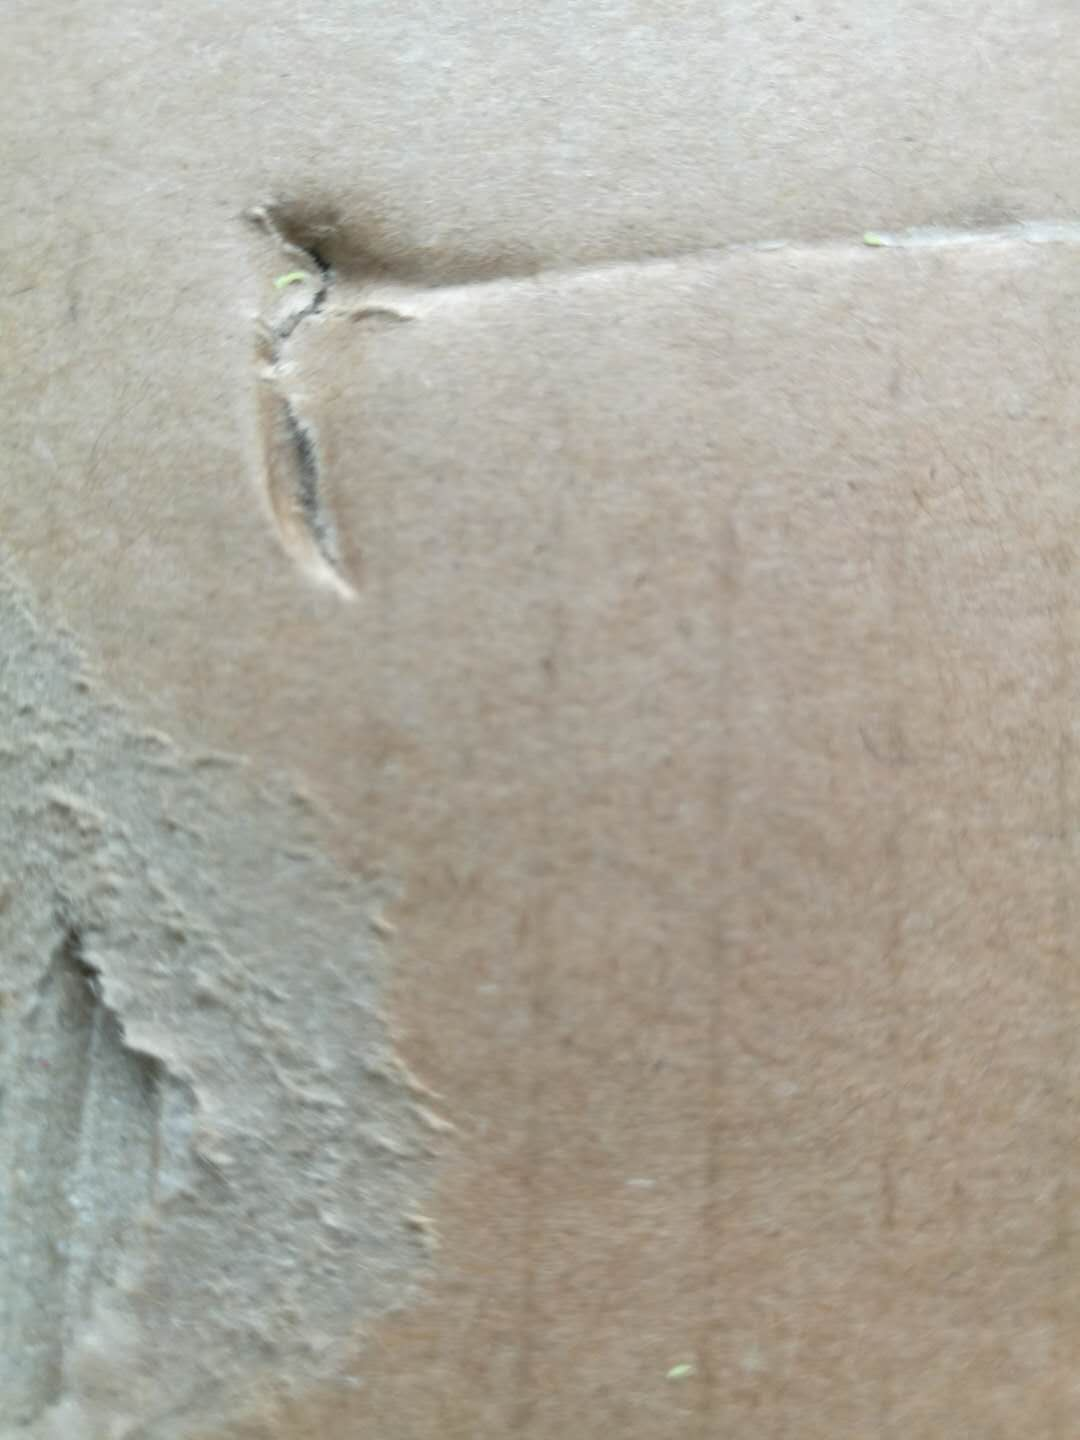defect: (2, 520, 522, 1440), (197, 128, 1080, 618)
